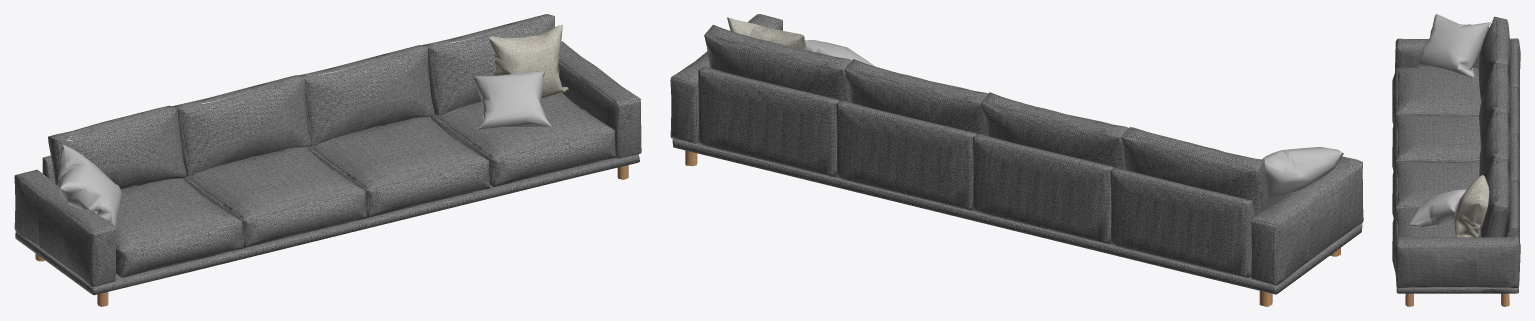
File: SM_四人沙发_320cm.gltf
The picture shows the model from 3 angles, left to right: view 1: azimuth 30°, elevation 25°; view 2: azimuth 150°, elevation 25°; view 3: azimuth 270°, elevation 25°; orthographic projection. The views are drawn at different scales.
Parts seen in each view (by area): view 1: SM_四人沙发_320cm_StaticMeshComponent0; view 2: SM_四人沙发_320cm_StaticMeshComponent0; view 3: SM_四人沙发_320cm_StaticMeshComponent0.
Part boxes in pixels (x1,y1,x2,y2): SM_四人沙发_320cm_StaticMeshComponent0: [14, 14, 641, 306]; SM_四人沙发_320cm_StaticMeshComponent0: [670, 14, 1363, 306]; SM_四人沙发_320cm_StaticMeshComponent0: [1392, 14, 1520, 306].
Size of the model in its own units: 355 by 77.22 by 91.35.
4 materials, 4 textured.
